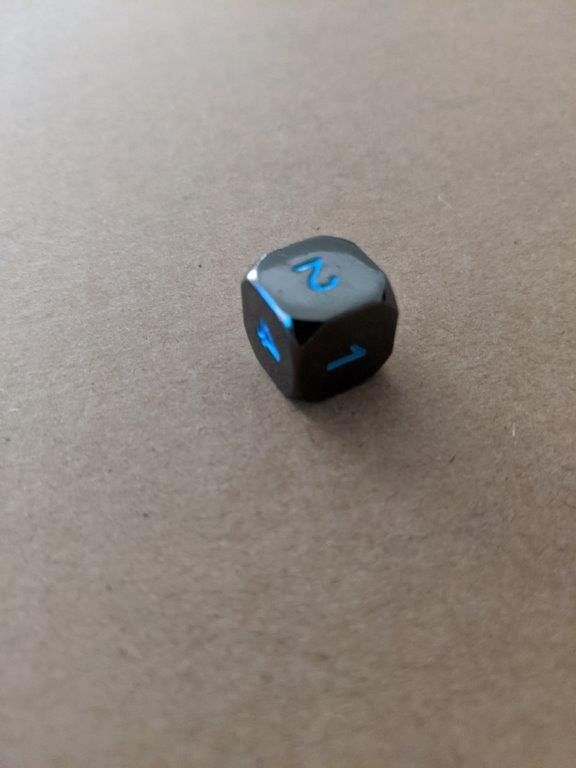d6-2: (244, 235, 401, 408)
